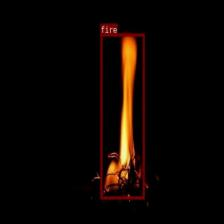fire: (100, 33, 144, 199)
